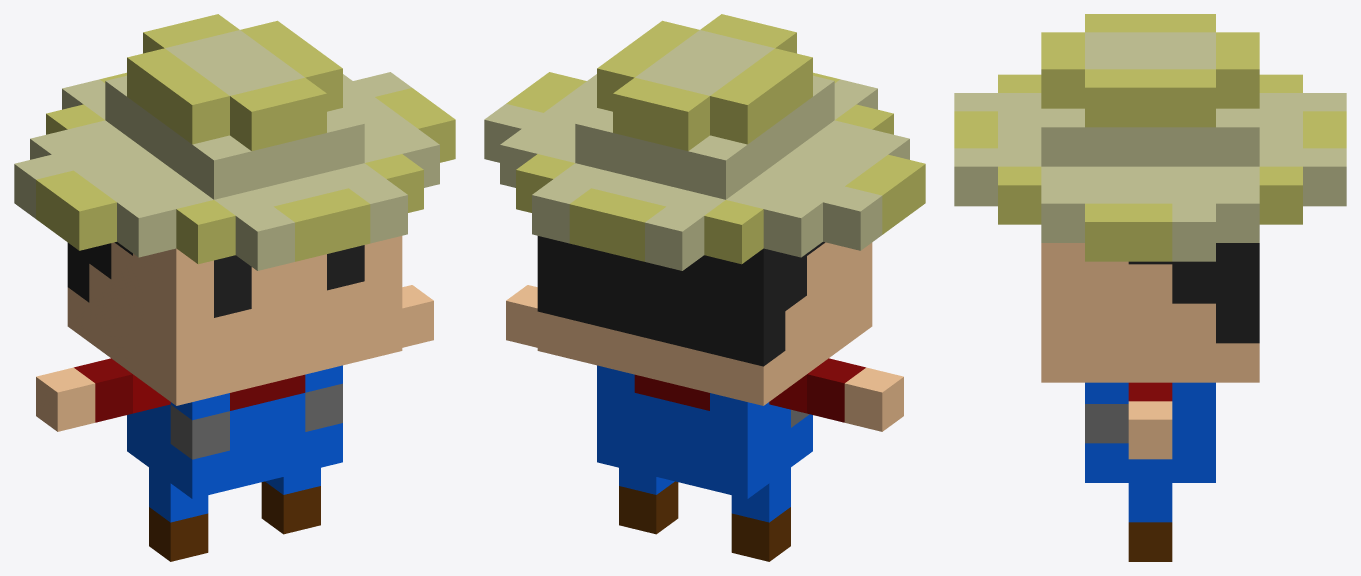
The picture shows the model from 3 angles, left to right: view 1: azimuth 30°, elevation 25°; view 2: azimuth 150°, elevation 25°; view 3: azimuth 270°, elevation 25°; orthographic projection.
Visible parts, largest first — view 1: Object_0; view 2: Object_0; view 3: Object_0.
Part boxes in pixels (<box>): Object_0: <box>14,14,455,561</box>; Object_0: <box>484,14,925,561</box>; Object_0: <box>954,14,1346,561</box>.
Bounding box in the file's own units: 1.33 × 1.6 × 1.2.
1 material, 1 textured.
